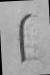F9: (3, 0, 48, 74)
